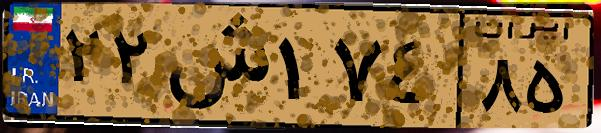1: (270, 28, 330, 110)
2: (57, 26, 110, 100), (110, 28, 158, 98)
4: (385, 28, 445, 110)
5: (525, 38, 570, 115)
7: (330, 28, 385, 110)
8: (475, 38, 525, 113)
ش: (158, 12, 270, 120)
